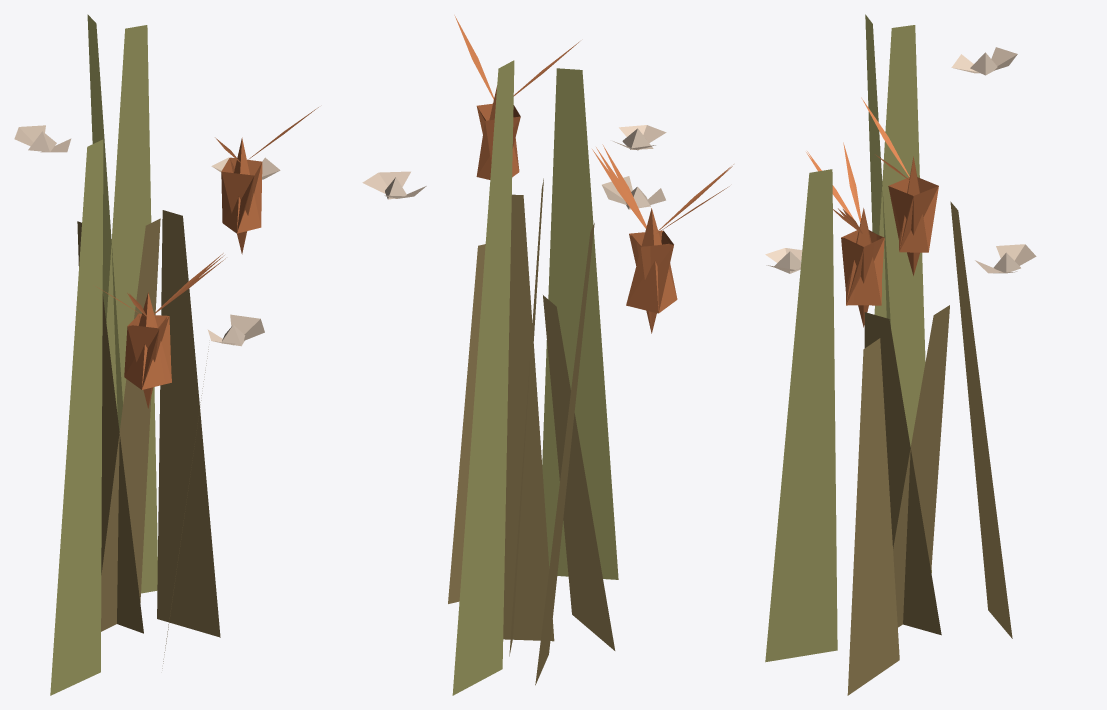
Rendered from nong.su__autumn.glb.
The picture shows the model from 3 angles, left to right: view 1: azimuth 30°, elevation 25°; view 2: azimuth 150°, elevation 25°; view 3: azimuth 270°, elevation 25°; orthographic projection. The views are drawn at different scales.
Parts seen in each view (by area): view 1: nong.su__autumn; view 2: nong.su__autumn; view 3: nong.su__autumn.
Part boxes in pixels (<box>): nong.su__autumn: <box>14,14,318,695</box>; nong.su__autumn: <box>362,15,733,695</box>; nong.su__autumn: <box>765,14,1036,695</box>.
Size of the model in its own units: 0.4997 by 0.9887 by 0.4913.
